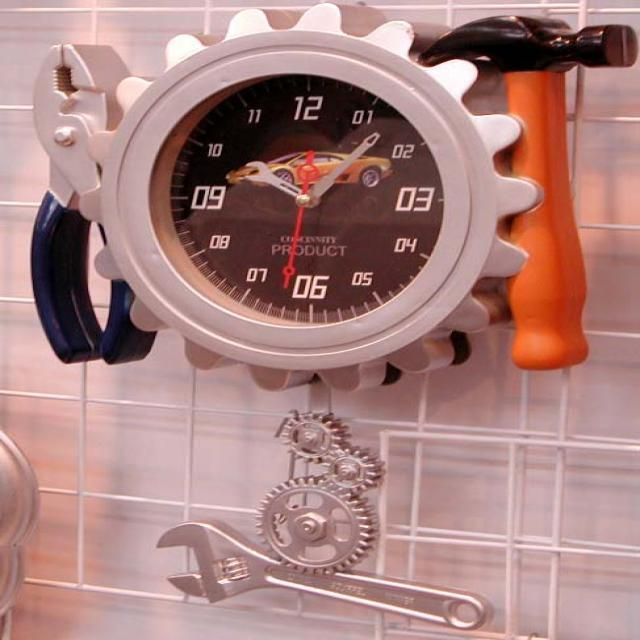hammer: (406, 7, 640, 374)
pliers: (16, 39, 166, 378)
wrench: (142, 512, 503, 640)
